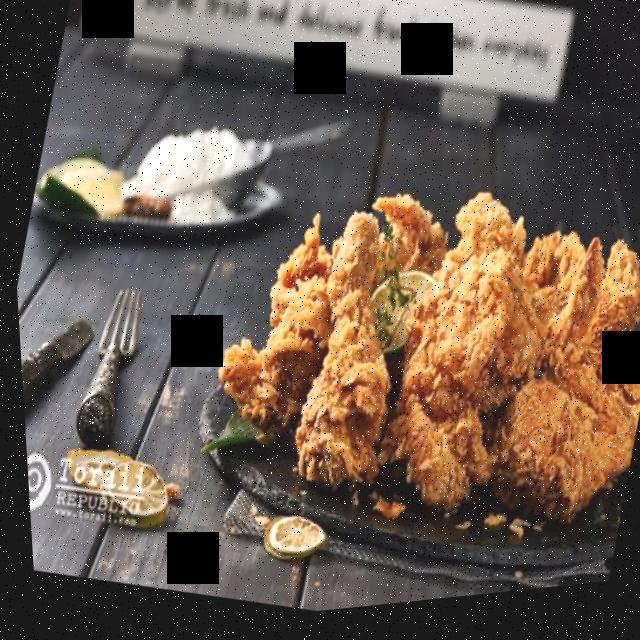Frango: (173, 141, 640, 604)
